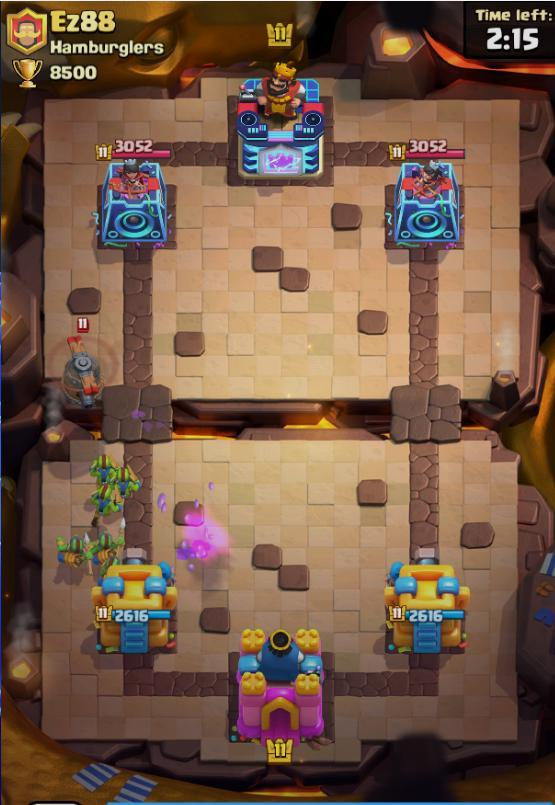EFlyingMachine: (59, 335, 103, 410)
EKingTower: (237, 63, 324, 180)
EnemyPrincessTower: (386, 159, 462, 248), (96, 159, 168, 248)
OCannoneerTower: (386, 550, 469, 653), (92, 556, 176, 653)
OGoblin: (110, 465, 141, 505), (90, 486, 122, 523), (89, 455, 120, 489)
OSpearGoblin: (86, 530, 122, 572), (57, 532, 94, 567)
